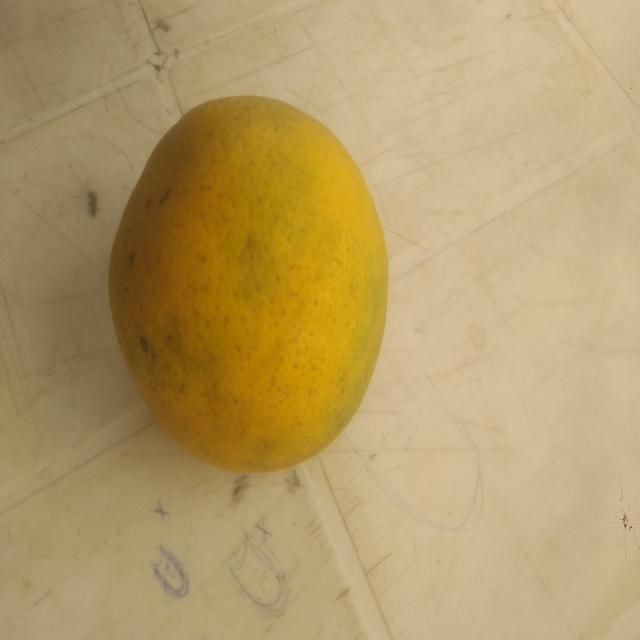agrume: (91, 84, 403, 499)
